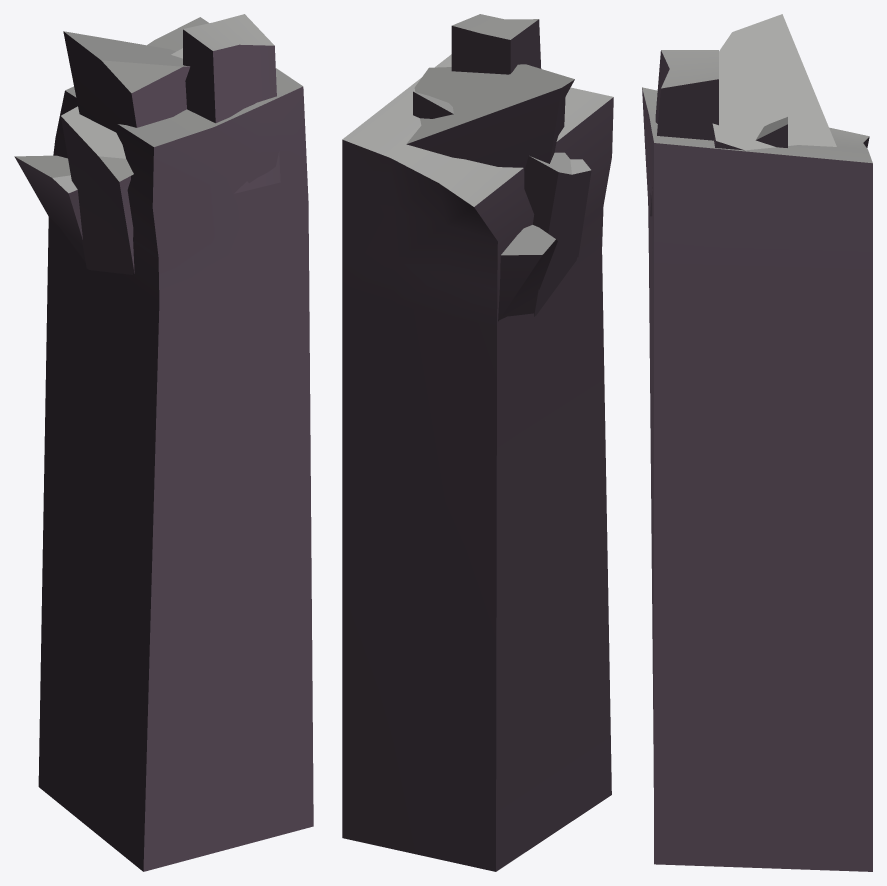
Rendered from env01_cliff_right02.FBX.
3 views of the same model, side by side, from view 1: azimuth 30°, elevation 25°; view 2: azimuth 150°, elevation 25°; view 3: azimuth 270°, elevation 25° (orthographic). The views are drawn at different scales.
Visible parts, largest first — view 1: env01_cliff_right02; view 2: env01_cliff_right02; view 3: env01_cliff_right02.
Boxes of the visible parts, x1,y1,x2,y2 form: env01_cliff_right02: (14,14,313,871); env01_cliff_right02: (342,14,613,871); env01_cliff_right02: (642,14,872,871).
Size of the model in its own units: 260 by 1009 by 272.
